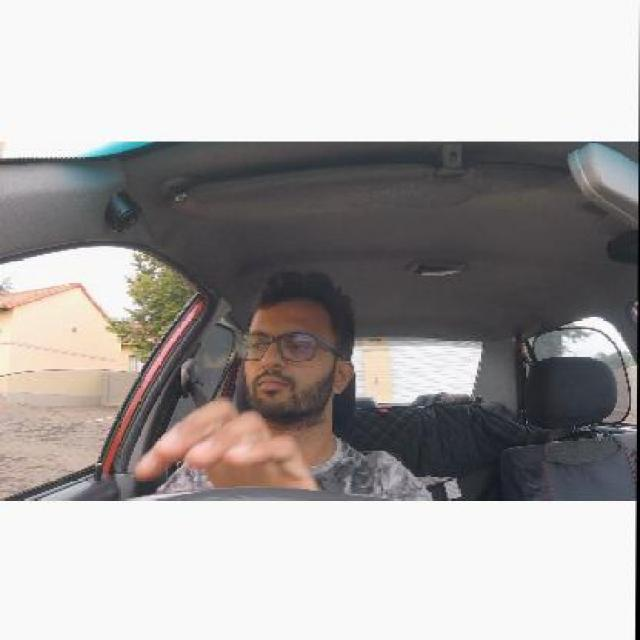person: (243, 284, 354, 411)
